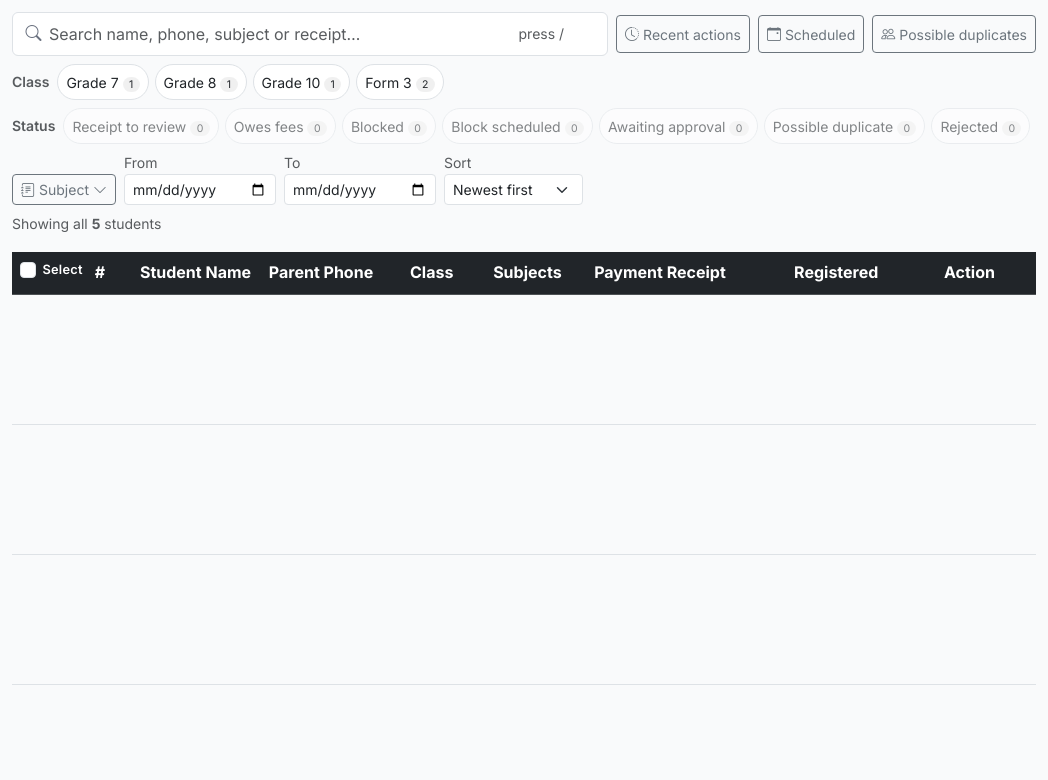
Test case: the search box and class chips › typing filters the list and highlights the match
Type "zoe" into the search field named "Search students" at (310, 34), box [12,12,608,56]
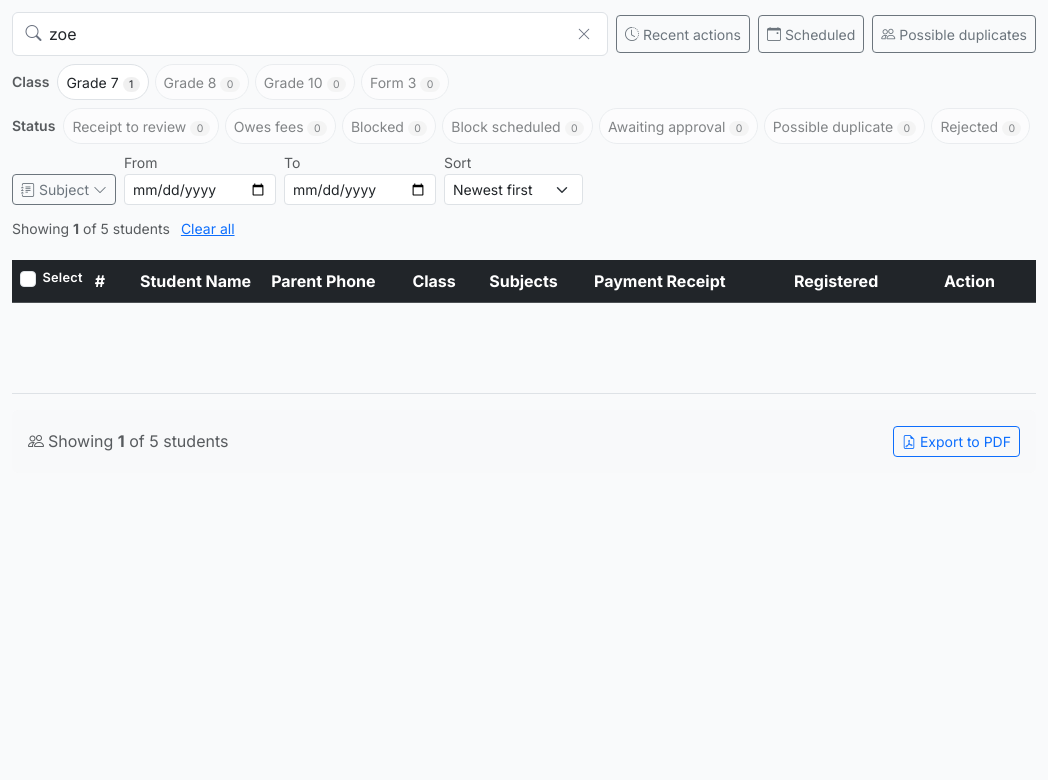
Check: the element with test id "search-summary" shows "Showing 1 of 5", box [12,213,240,244]
